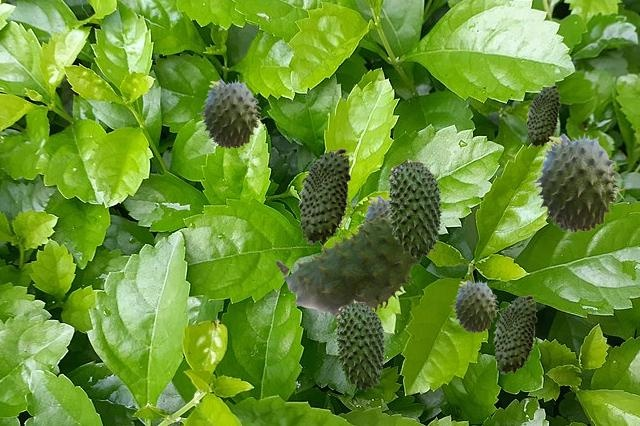guyabano: (275, 216, 420, 320), (530, 132, 628, 232), (386, 158, 442, 258), (298, 148, 350, 243), (197, 78, 266, 148), (334, 299, 385, 390), (493, 295, 536, 373), (450, 279, 502, 332), (526, 85, 559, 146), (360, 194, 389, 223)
